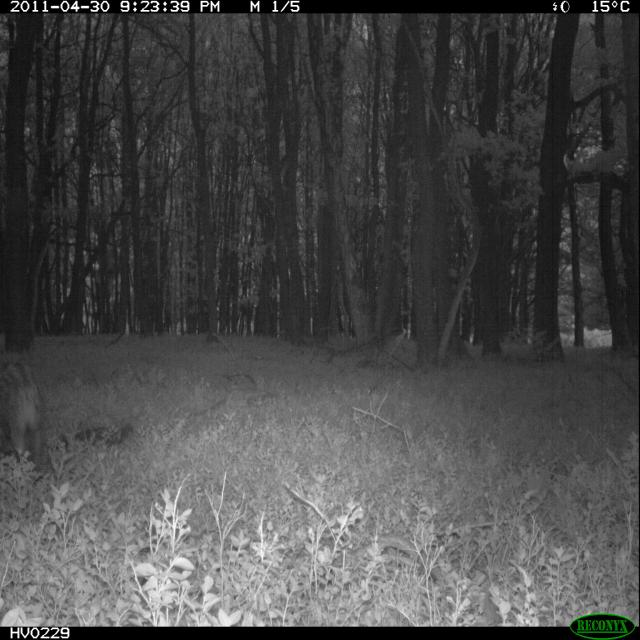boar: (0, 341, 67, 483)
